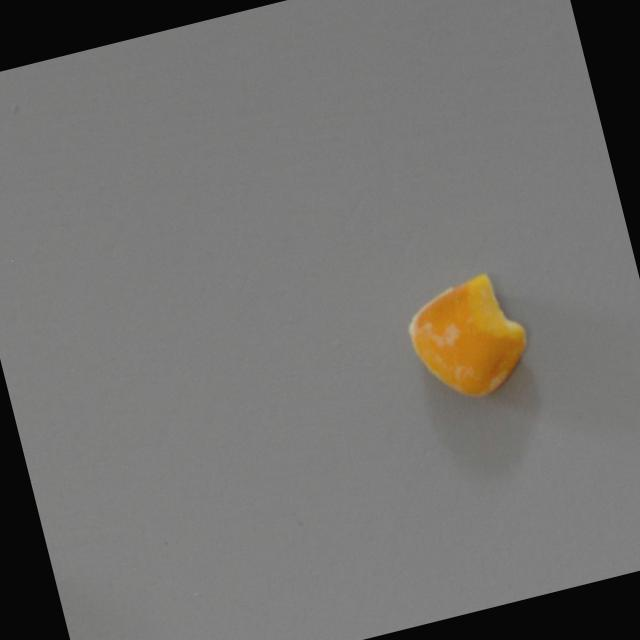pelicula: (398, 266, 539, 410)
